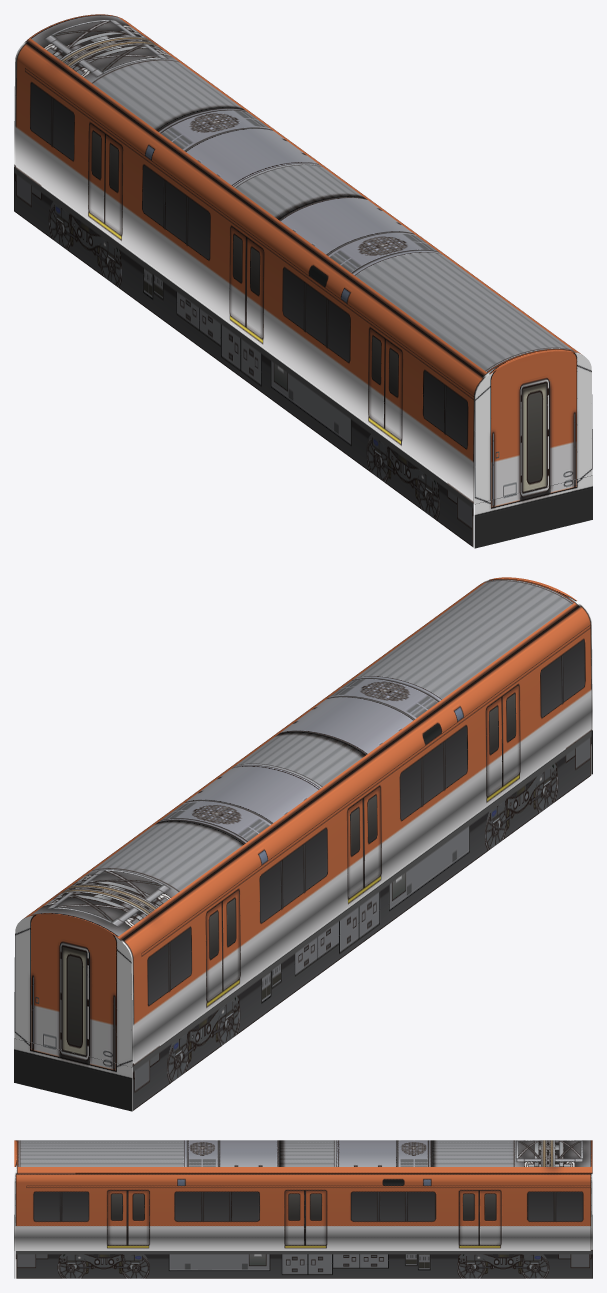
File: car3.glb
3 views of the same model, one above another, from view 1: azimuth 30°, elevation 25°; view 2: azimuth 150°, elevation 25°; view 3: azimuth 270°, elevation 25° (orthographic). The views are drawn at different scales.
Parts seen in each view (by area): view 1: hansin-9300-car3; view 2: hansin-9300-car3; view 3: hansin-9300-car3.
Part boxes in pixels (box(x1,y1,x2,y2)): hansin-9300-car3: box(14, 14, 592, 548); hansin-9300-car3: box(14, 577, 592, 1111); hansin-9300-car3: box(14, 1140, 592, 1278).
Size of the model in its own units: 2.8 by 4.06 by 18.91.
Materials: 9 (8 with a texture image).
